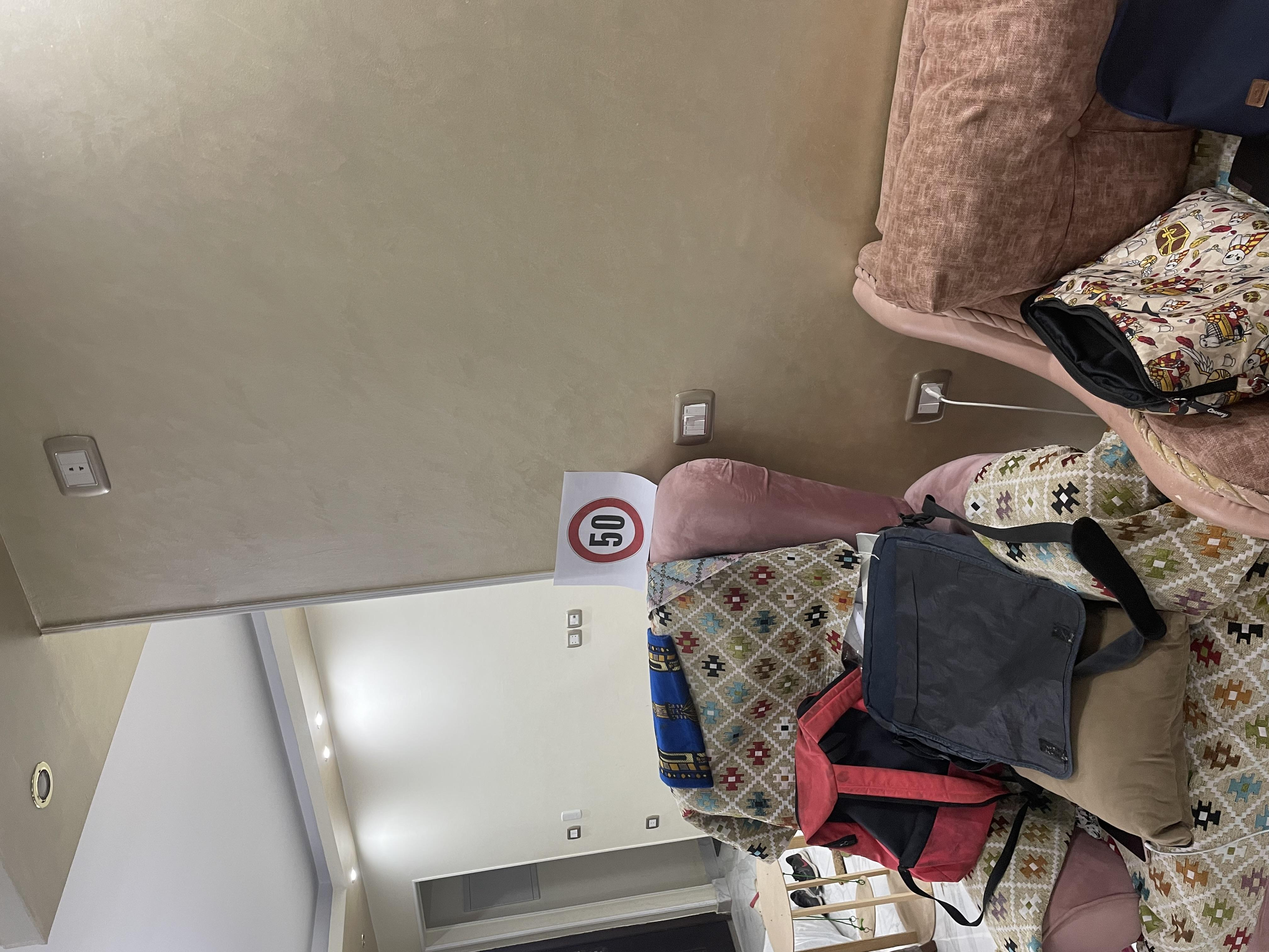50-Speed: (517, 423, 607, 487)
